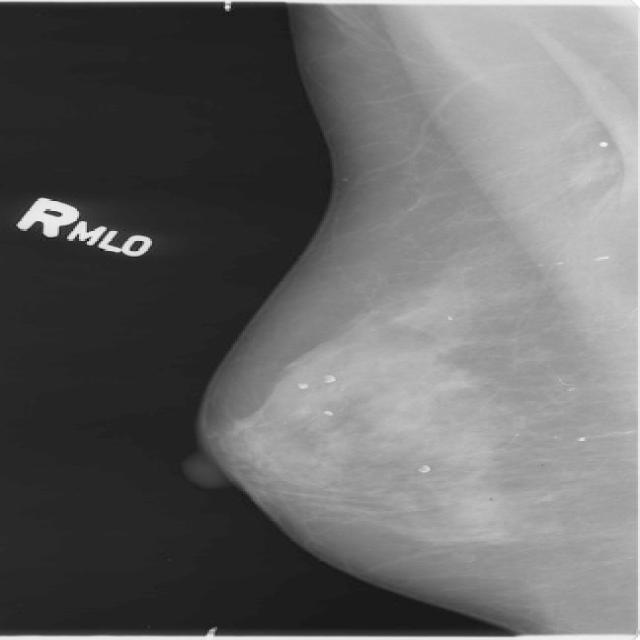tumour: (565, 154, 616, 186)
